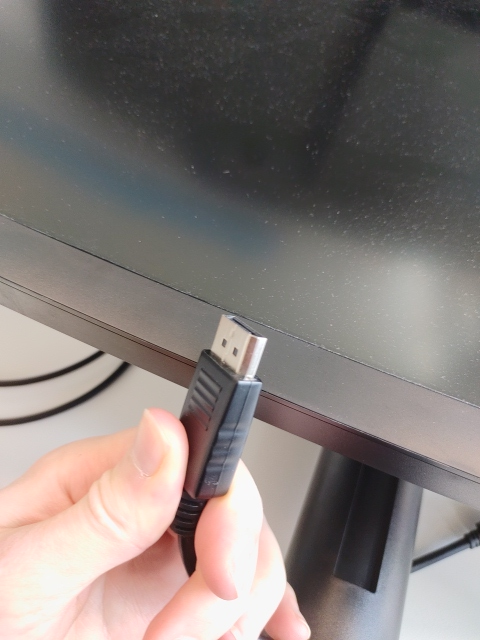DisplayPort: (209, 314, 269, 383)
